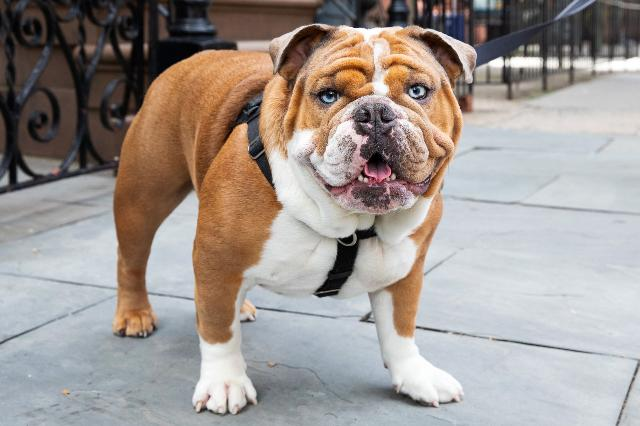dog: (103, 14, 477, 420)
